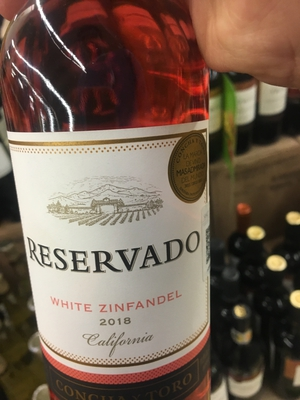reservado white zinfandel: (6, 6, 217, 400)
